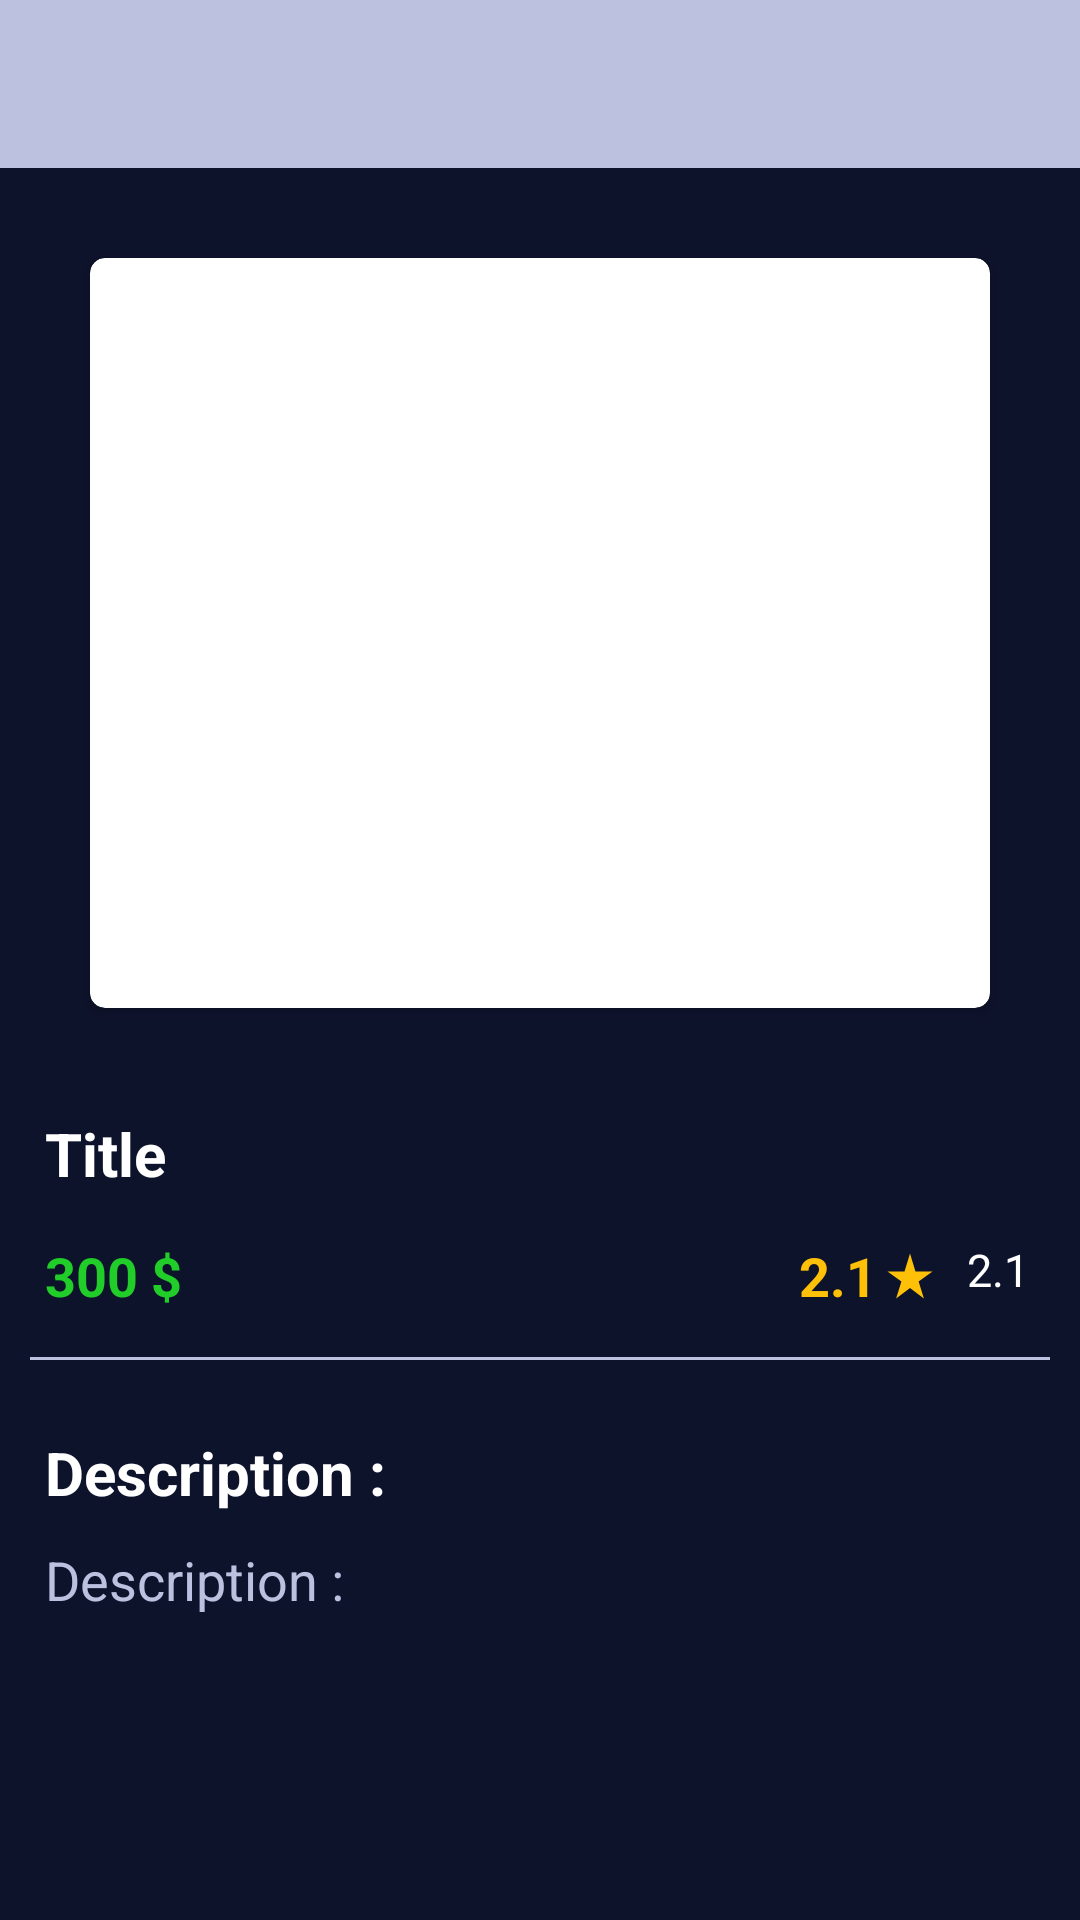

Named icons in this screenshot (1080w x 1920h) and their centers, (x,y):
star rate: (910,1276)
